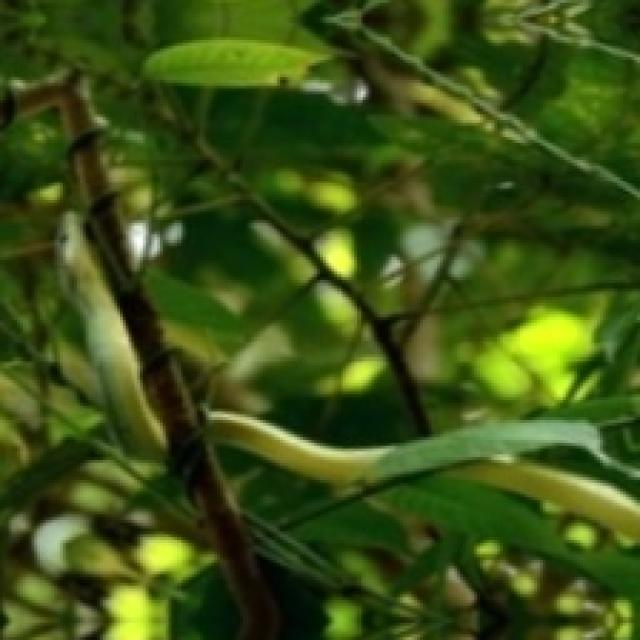red-tailed green ratsnake: (60, 211, 166, 454), (456, 460, 640, 542), (208, 411, 391, 487)
